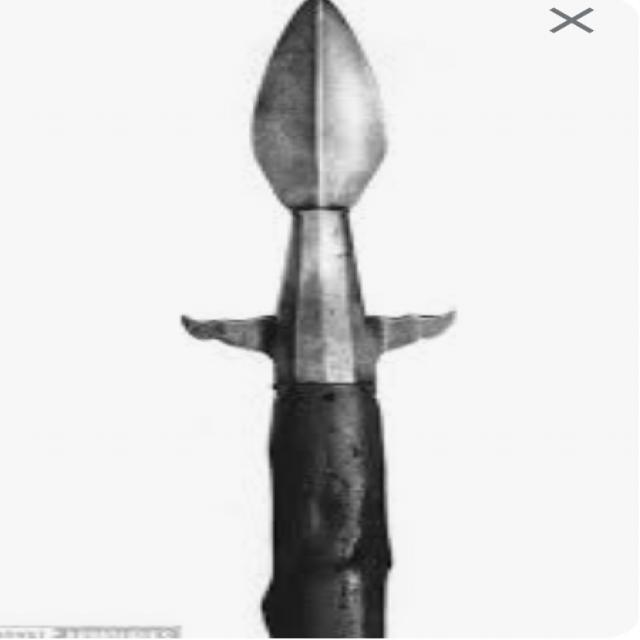spear: (162, 0, 487, 635)
